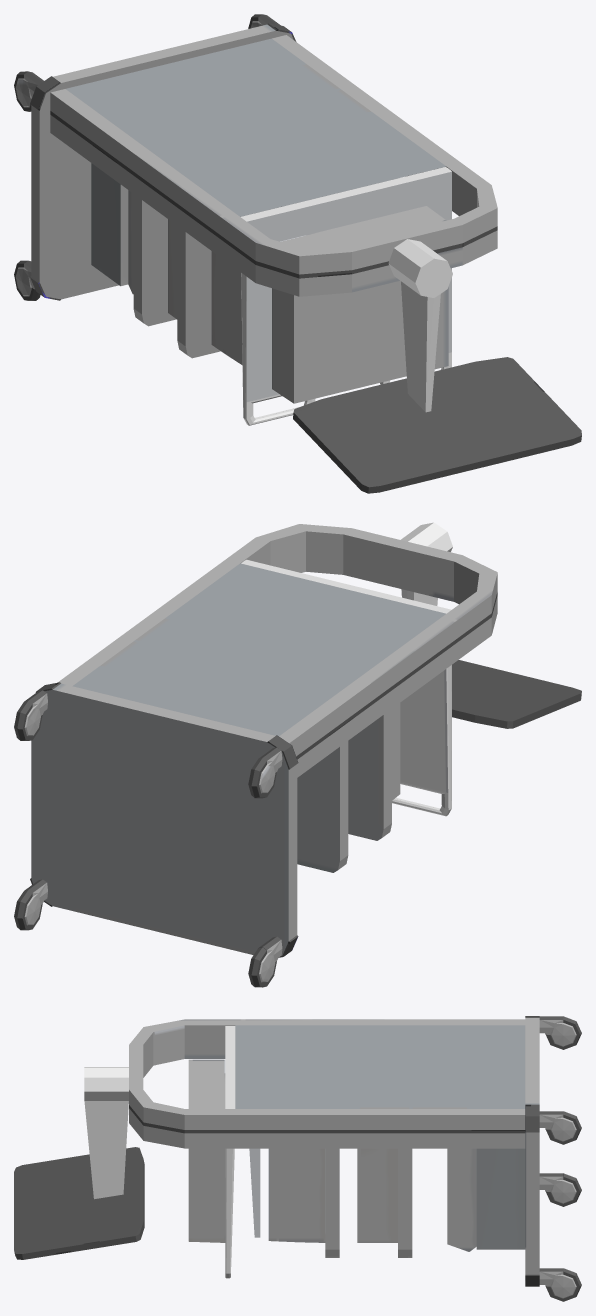
The model's file is InstrumentCart1.dae.
3 views of the same model, one above another, from view 1: azimuth 30°, elevation 25°; view 2: azimuth 150°, elevation 25°; view 3: azimuth 270°, elevation 25° (orthographic). The views are drawn at different scales.
Parts seen in each view (by area): view 1: node; view 2: node; view 3: node.
Boxes of the visible parts, x1,y1,x2,y2 form: node: (14,14,581,493); node: (14,522,581,987); node: (14,1016,581,1301).
Size of the model in its own units: 0.6058 by 0.5196 by 1.38.
1 material, 1 textured.
